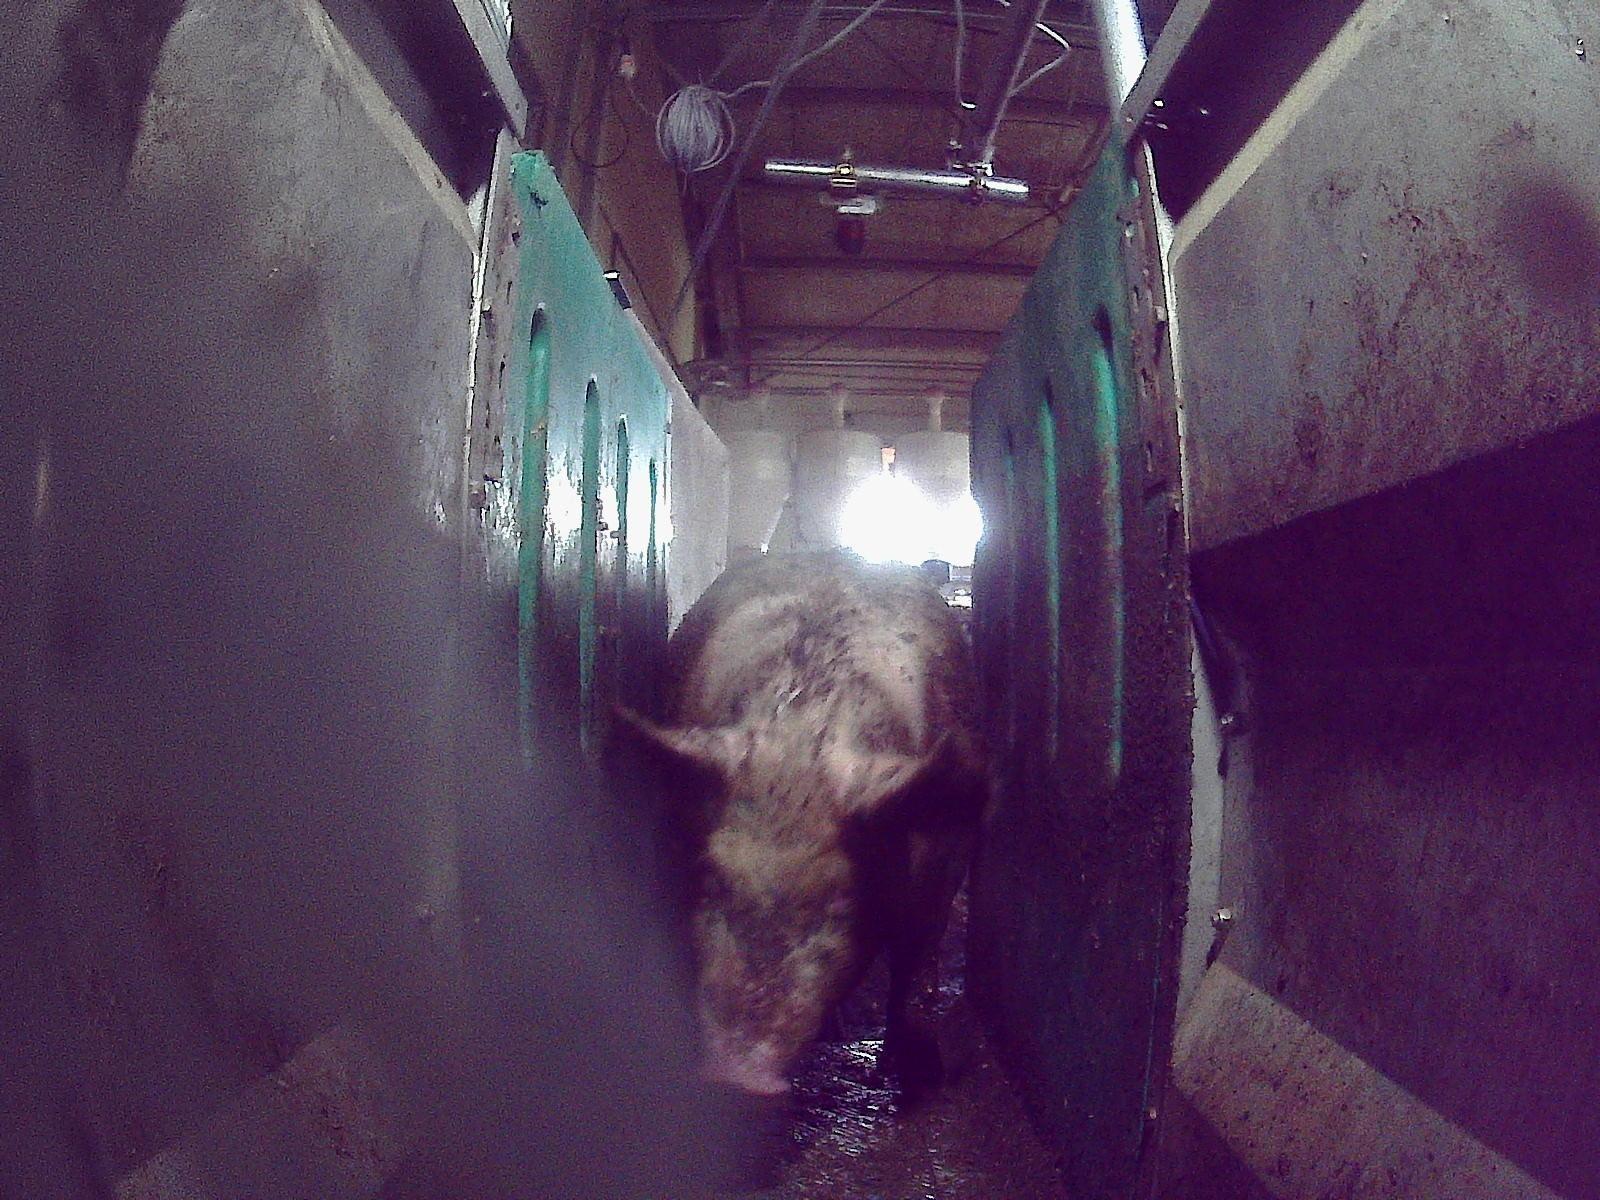Face: (676, 749, 879, 1106)
